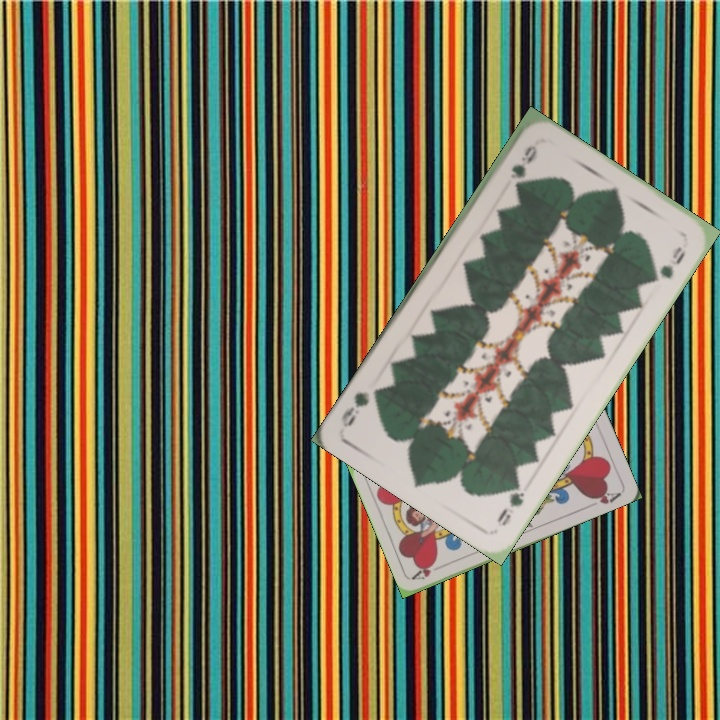G9: (492, 476, 527, 529), (506, 141, 540, 189)
HA: (409, 559, 438, 583)
